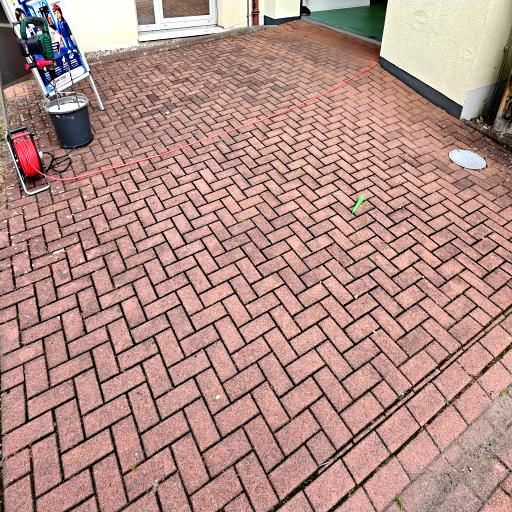Probe-Detection: (352, 195, 364, 214)
